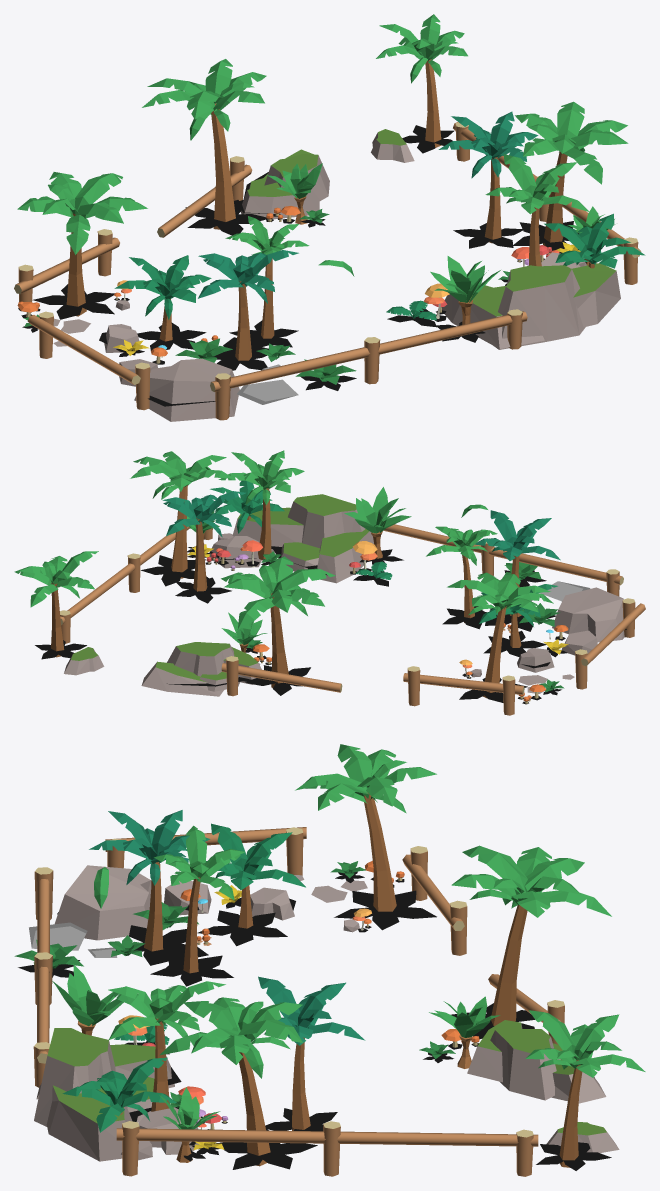
The model's file is xweilan_1017_0.FBX.
3 views of the same model, one above another, from view 1: azimuth 30°, elevation 25°; view 2: azimuth 150°, elevation 25°; view 3: azimuth 270°, elevation 25° (orthographic). The views are drawn at different scales.
Visible parts, largest first — view 1: xweilan_1017_0; view 2: xweilan_1017_0; view 3: xweilan_1017_0.
Boxes of the visible parts, bbox=[...] form: xweilan_1017_0: bbox=[14, 14, 645, 421]; xweilan_1017_0: bbox=[14, 450, 645, 715]; xweilan_1017_0: bbox=[14, 744, 645, 1176].
Size of the model in its own units: 9457 by 2362 by 7745.
